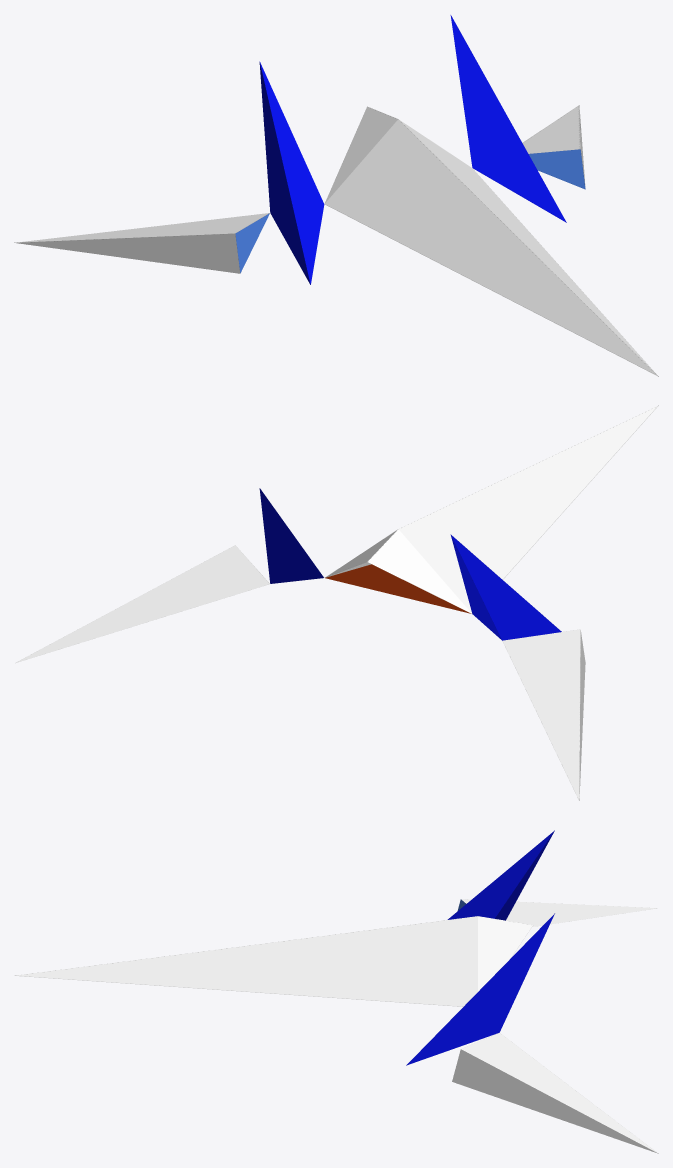
File: arwing_SNES.fbx
The picture shows the model from 3 angles, top to bottom: view 1: azimuth 30°, elevation 25°; view 2: azimuth 150°, elevation 25°; view 3: azimuth 270°, elevation 25°; orthographic projection. The views are drawn at different scales.
Parts seen in each view (by area): view 1: pSolid7; view 2: pSolid7; view 3: pSolid7.
Part boxes in pixels (x1,y1,x2,y2): pSolid7: [14, 15, 658, 376]; pSolid7: [15, 405, 658, 800]; pSolid7: [15, 830, 658, 1153].
Size of the model in its own units: 6.25 by 1.89 by 6.94.
Materials: 1 (1 with a texture image).
